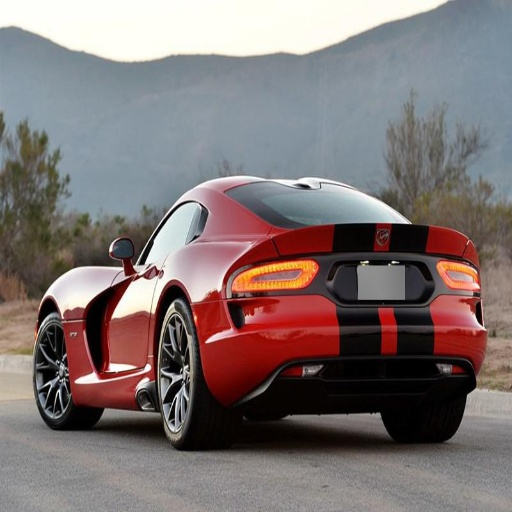back_bumper: (203, 285, 485, 398)
back_right_light: (439, 261, 480, 300)
tailgate: (300, 220, 431, 306)
trunk: (347, 297, 421, 350)
